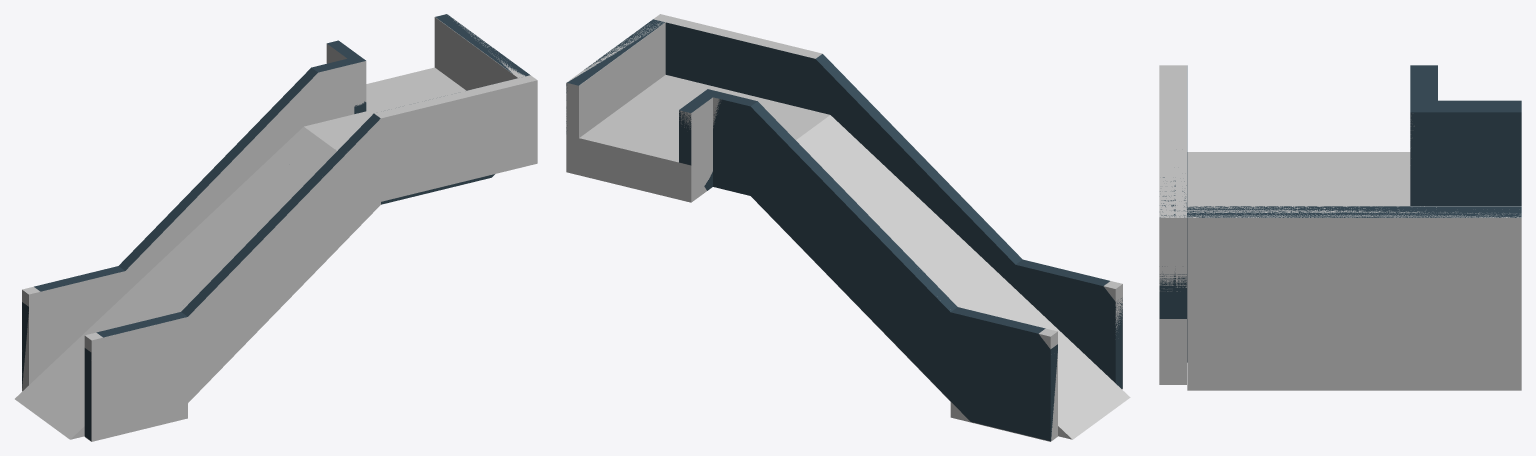
File: SM_Stair_03_b.fbx
3 renders of one model, left to right at view 1: azimuth 30°, elevation 25°; view 2: azimuth 150°, elevation 25°; view 3: azimuth 270°, elevation 25°, orthographic. The views are drawn at different scales.
Visible parts, largest first — view 1: SM_Stair_03_b_ConvexHulls, SM_Stair_03_b; view 2: SM_Stair_03_b, SM_Stair_03_b_ConvexHulls; view 3: SM_Stair_03_b_ConvexHulls, SM_Stair_03_b.
Boxes of the visible parts, box(x1,y1,x2,y2) form: SM_Stair_03_b_ConvexHulls: box(15, 14, 537, 441); SM_Stair_03_b: box(22, 14, 530, 440); SM_Stair_03_b: box(566, 19, 1122, 441); SM_Stair_03_b_ConvexHulls: box(566, 14, 1130, 441); SM_Stair_03_b_ConvexHulls: box(1159, 65, 1521, 390); SM_Stair_03_b: box(1159, 65, 1521, 362).
Size of the model in its own units: 955 by 325 by 501.
2 materials, 1 textured.
